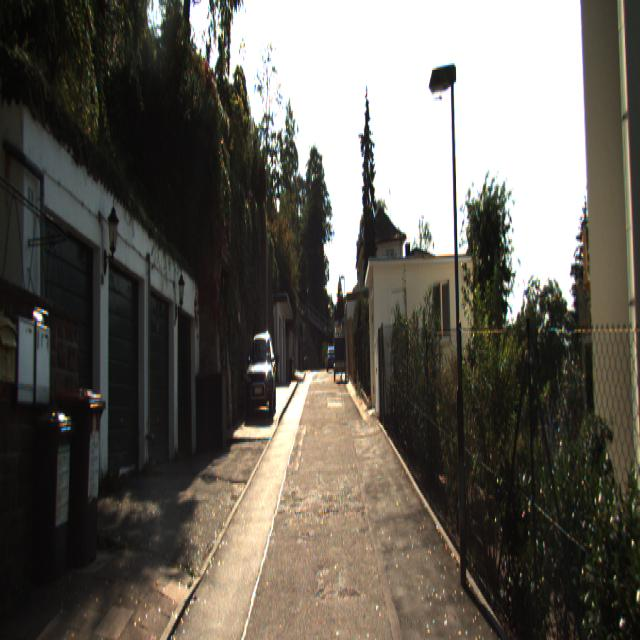Car: (244, 333, 276, 418), (334, 334, 348, 383)
